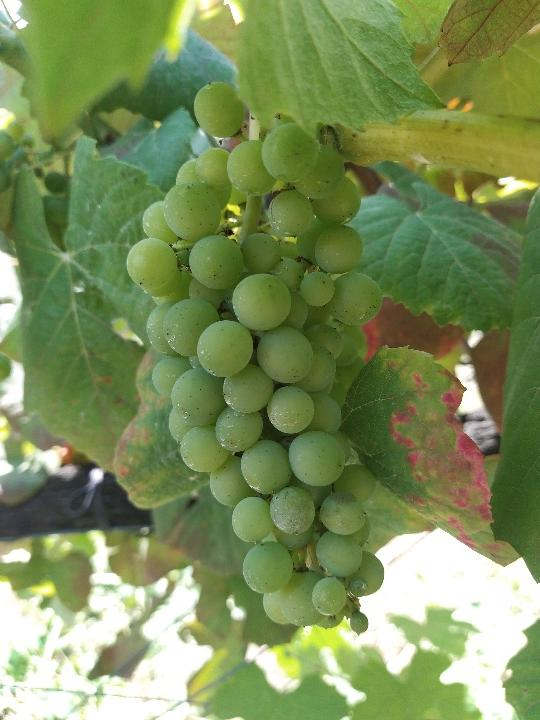grape: (124, 75, 386, 638)
